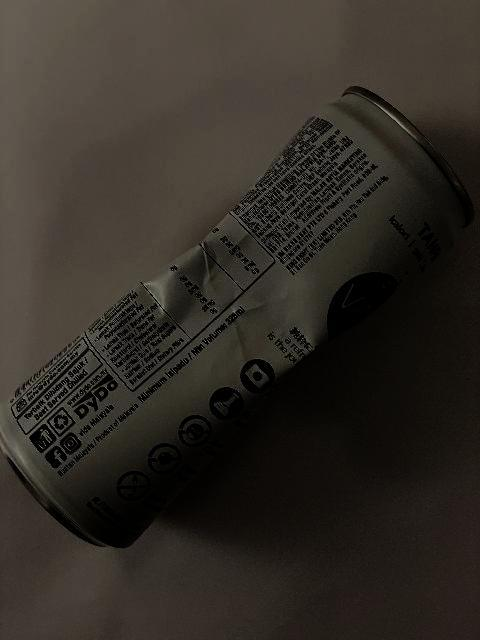drinkcan: (0, 84, 476, 550)
